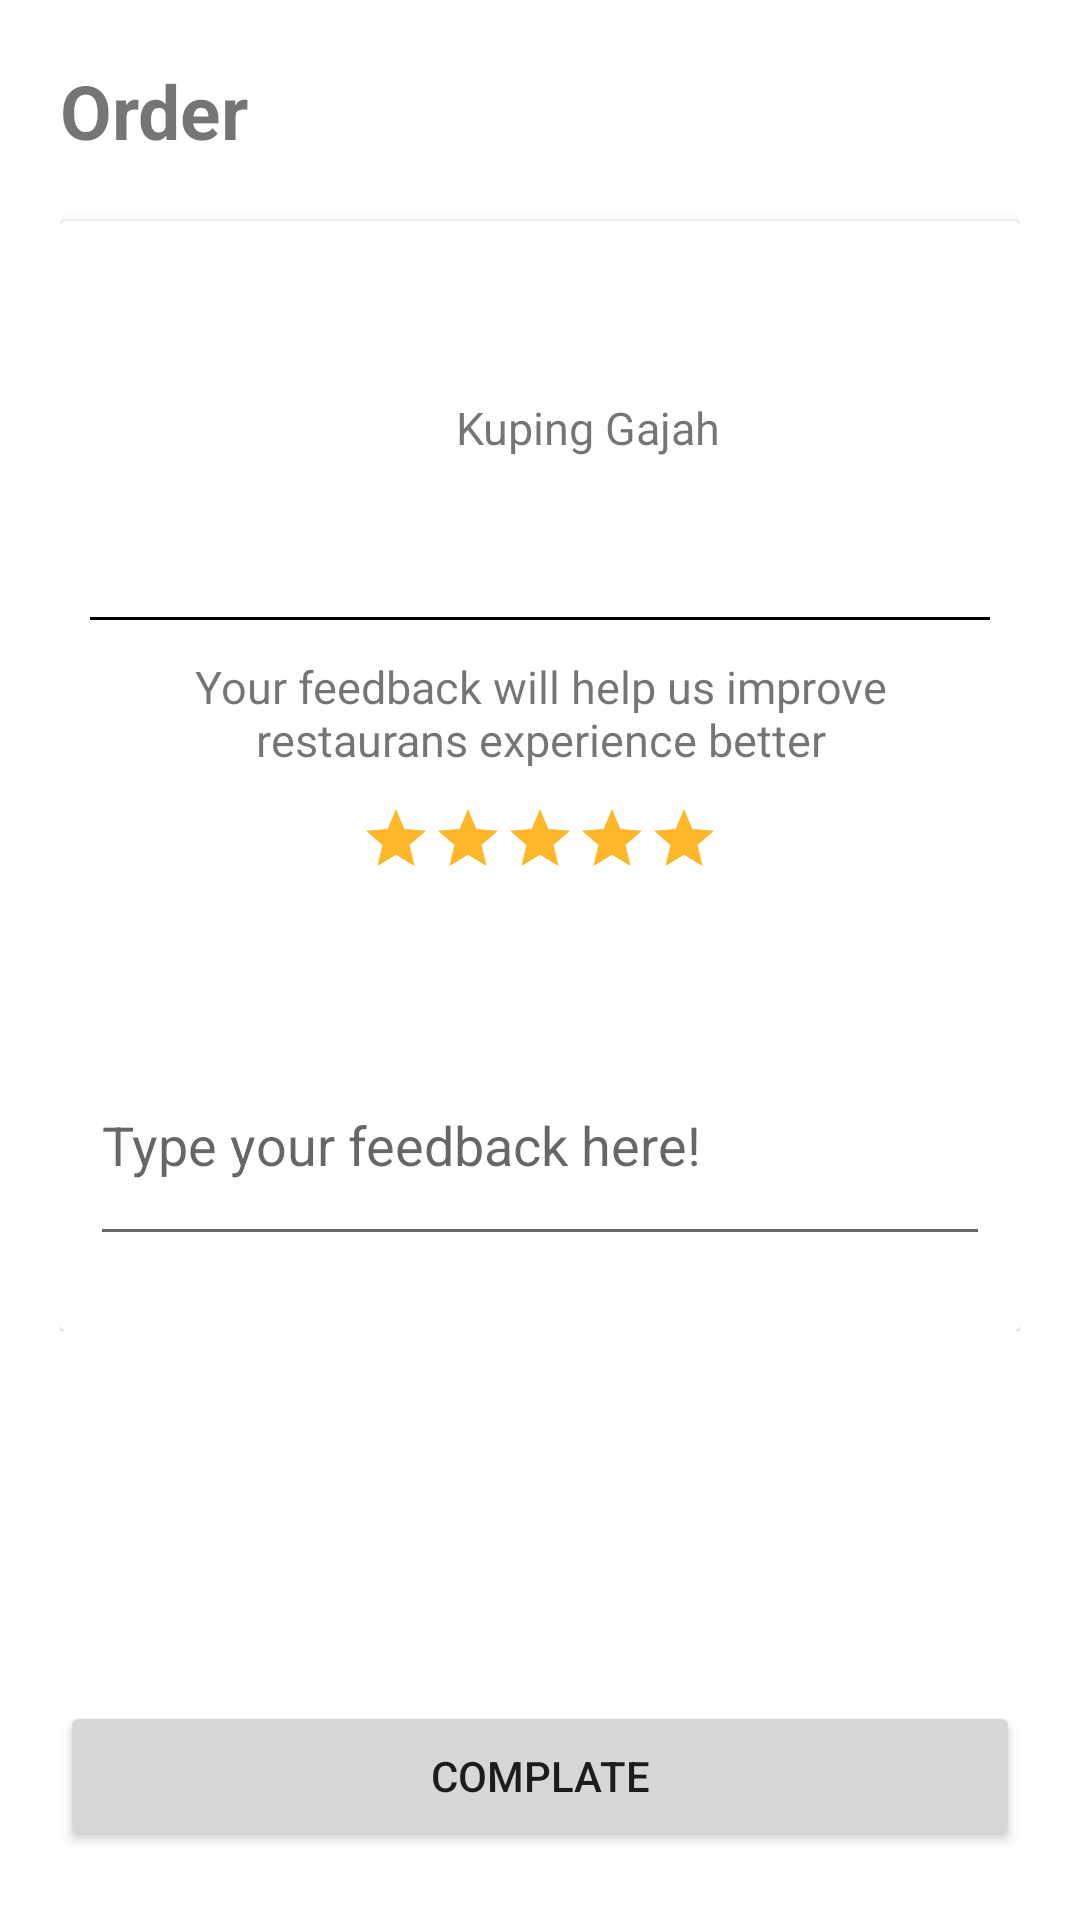

Icon click points for this 1080px×1920px phone screenshot, format [x,y]:
star: [396,837], [468,837], [540,837], [612,837], [684,837]
